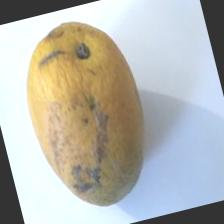Orange Rotten: (1, 3, 175, 224)
